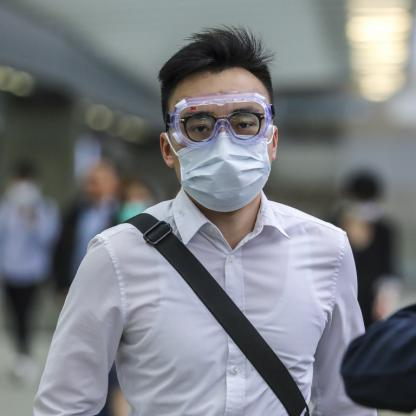Wearing_Mask: (154, 56, 287, 208)
